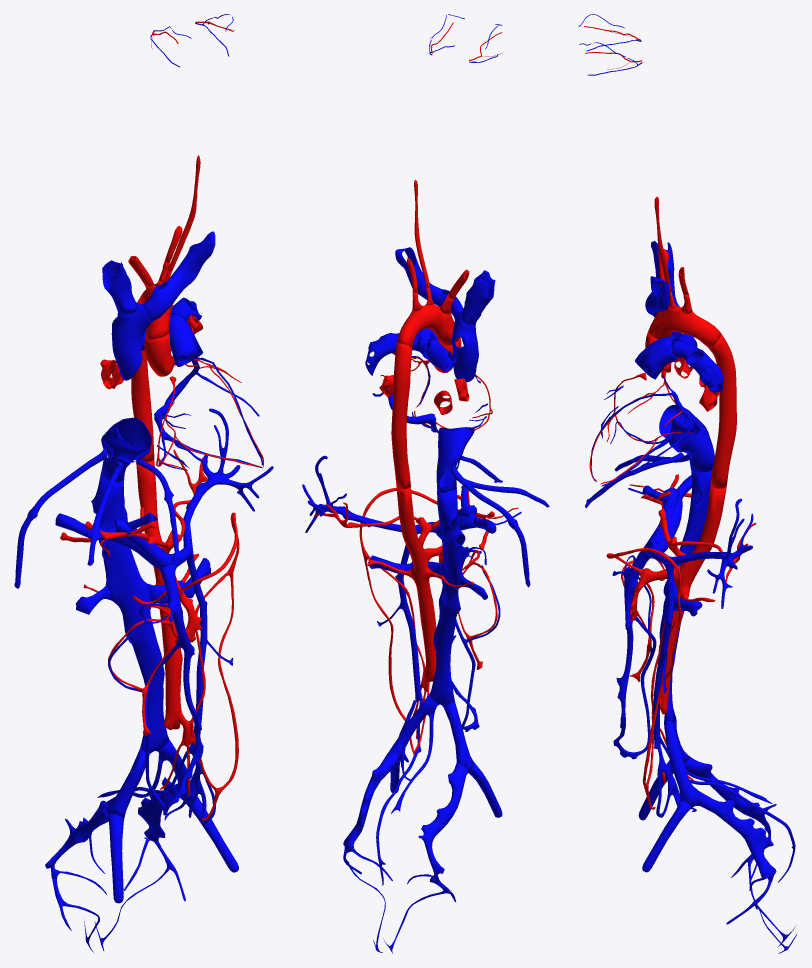
The model's file is vh_m_blood_vasculature-20.glb.
3 renders of one model, left to right at view 1: azimuth 30°, elevation 25°; view 2: azimuth 150°, elevation 25°; view 3: azimuth 270°, elevation 25°, orthographic. The views are drawn at different scales.
Parts seen in each view (by area): view 1: VH_M_inferior_vena_cava_b, VH_M_descending_aorta_b, VH_M_superior_mesenteric_vein, VH_M_splenic_vein, VH_M_inferior_vena_cava_a, VH_M_brachiocephalic_vein_L, VH_M_superior_vena_cava, VH_M_marginal_artery_of_Drummond, VH_M_descending_aorta_a, VH_M_brachiocephalic_vein_R, VH_M_inferior_mesenteric_vein, VH_M_right_hepatic_vein (+18 smaller); view 2: VH_M_inferior_vena_cava_b, VH_M_descending_aorta_b, VH_M_descending_aorta_a, VH_M_inferior_vena_cava_a, VH_M_internal_iliac_vein_R, VH_M_aortic_arch, VH_M_superior_vena_cava, VH_M_splenic_vein, VH_M_internal_iliac_vein_L, VH_M_brachiocephalic_vein_R, VH_M_brachiocephalic_vein_L, VH_M_marginal_artery_of_Drummond (+8 smaller); view 3: VH_M_descending_aorta_a, VH_M_descending_aorta_b, VH_M_inferior_vena_cava_b, VH_M_inferior_vena_cava_a, VH_M_internal_iliac_vein_L, VH_M_aortic_arch, VH_M_splenic_vein, VH_M_superior_mesenteric_vein, VH_M_pulmonary_artery_L, VH_M_inferior_mesenteric_vein, VH_M_internal_iliac_vein_R, VH_M_marginal_artery_of_Drummond (+12 smaller).
Part boxes in pixels (<box>): VH_M_inferior_vena_cava_b: <box>91,473,168,753</box>; VH_M_descending_aorta_b: <box>136,460,182,730</box>; VH_M_superior_mesenteric_vein: <box>158,564,203,811</box>; VH_M_splenic_vein: <box>170,408,273,567</box>; VH_M_inferior_vena_cava_a: <box>101,417,152,482</box>; VH_M_brachiocephalic_vein_L: <box>142,231,215,321</box>; VH_M_superior_vena_cava: <box>111,302,152,380</box>; VH_M_marginal_artery_of_Drummond: <box>179,512,239,821</box>; VH_M_descending_aorta_a: <box>131,297,154,461</box>; VH_M_brachiocephalic_vein_R: <box>102,260,137,315</box>; VH_M_inferior_mesenteric_vein: <box>186,548,207,755</box>; VH_M_right_hepatic_vein: <box>14,449,107,588</box>; VH_M_inferior_vena_cava_b: <box>429,487,465,707</box>; VH_M_descending_aorta_b: <box>396,486,436,682</box>; VH_M_descending_aorta_a: <box>391,343,412,489</box>; VH_M_inferior_vena_cava_a: <box>436,427,474,492</box>; VH_M_internal_iliac_vein_R: <box>418,762,468,883</box>; VH_M_aortic_arch: <box>397,304,459,348</box>; VH_M_superior_vena_cava: <box>452,310,478,382</box>; VH_M_splenic_vein: <box>302,455,440,534</box>; VH_M_internal_iliac_vein_L: <box>343,752,399,852</box>; VH_M_brachiocephalic_vein_R: <box>461,270,495,325</box>; VH_M_brachiocephalic_vein_L: <box>395,247,463,319</box>; VH_M_marginal_artery_of_Drummond: <box>359,488,437,753</box>; VH_M_descending_aorta_a: <box>709,334,736,488</box>; VH_M_descending_aorta_b: <box>657,485,726,714</box>; VH_M_inferior_vena_cava_b: <box>659,467,712,722</box>; VH_M_inferior_vena_cava_a: <box>659,404,714,472</box>; VH_M_internal_iliac_vein_L: <box>696,790,776,881</box>; VH_M_aortic_arch: <box>647,306,721,348</box>; VH_M_splenic_vein: <box>645,498,753,608</box>; VH_M_superior_mesenteric_vein: <box>613,545,651,753</box>; VH_M_pulmonary_artery_L: <box>670,338,723,392</box>; VH_M_inferior_mesenteric_vein: <box>653,561,673,749</box>; VH_M_internal_iliac_vein_R: <box>684,757,776,847</box>; VH_M_marginal_artery_of_Drummond: <box>606,548,681,809</box>.
Bounding box in the file's own units: 0.2362 × 0.8718 × 0.1872.
